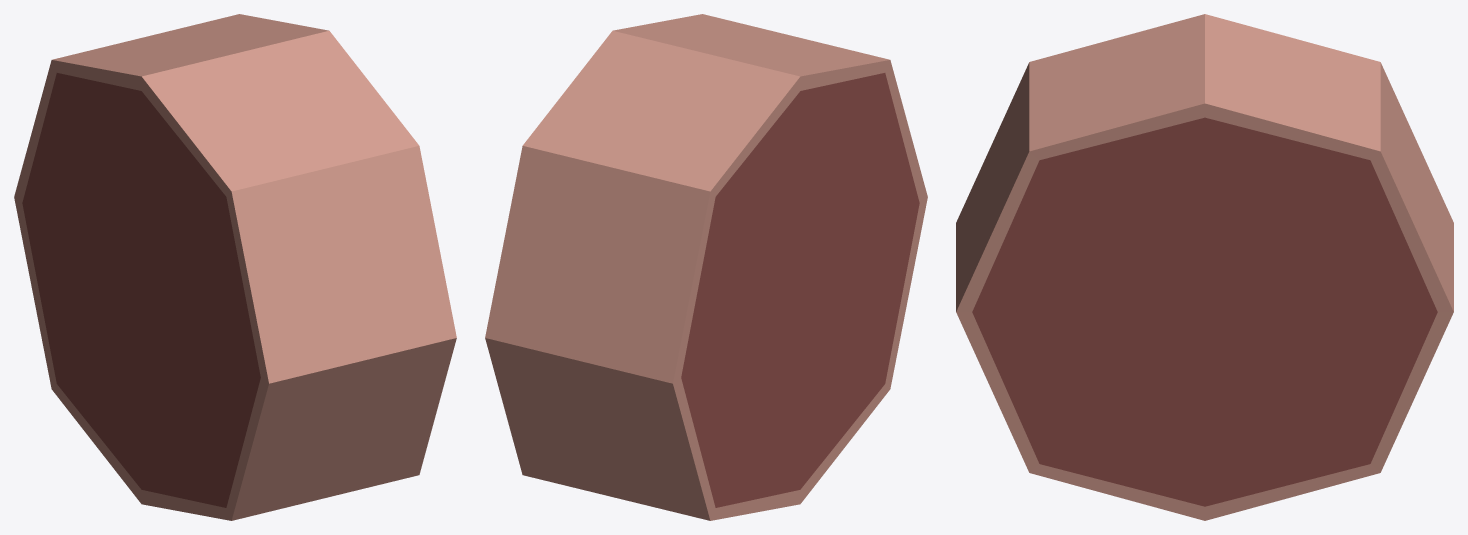
The model's file is casedSausageSlice.fbx.
3 renders of one model, left to right at view 1: azimuth 30°, elevation 25°; view 2: azimuth 150°, elevation 25°; view 3: azimuth 270°, elevation 25°, orthographic. The views are drawn at different scales.
Parts seen in each view (by area): view 1: casedSausageSlice; view 2: casedSausageSlice; view 3: casedSausageSlice.
Boxes of the visible parts, x1,y1,x2,y2 form: casedSausageSlice: (14,14,456,520); casedSausageSlice: (485,14,927,520); casedSausageSlice: (956,14,1453,520).
Size of the model in its own units: 3.59 by 7.82 by 8.45.
1 material, 1 textured.
